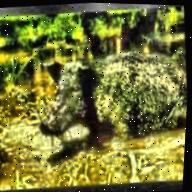boar: (34, 41, 190, 150)
